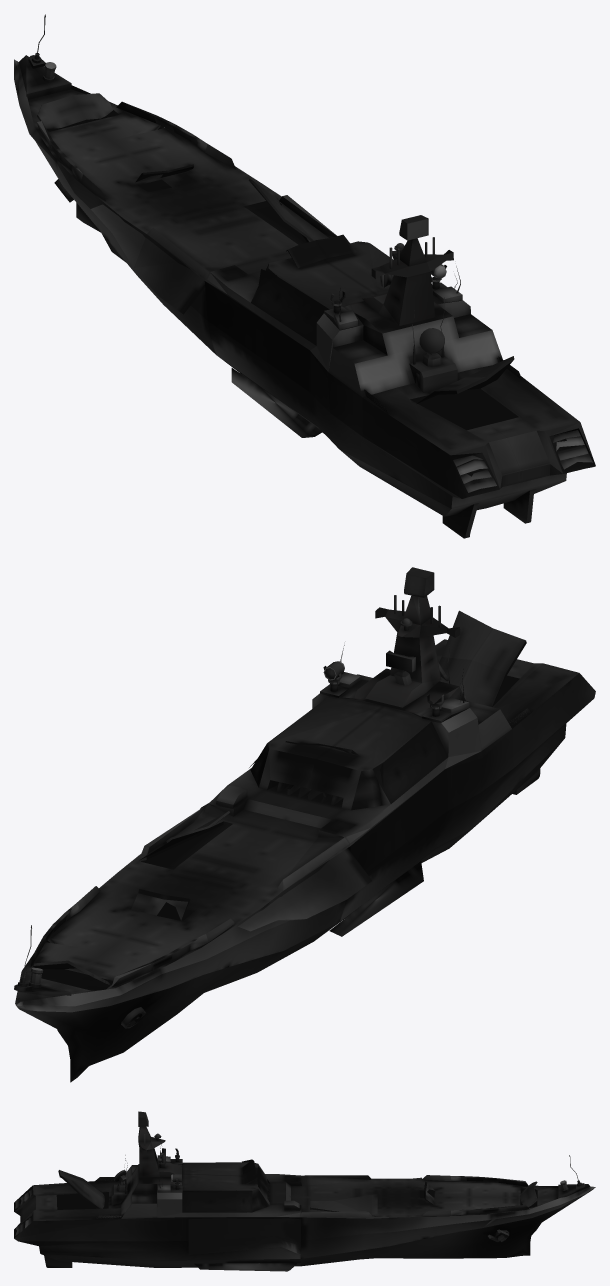
File: large_navy_boat_broken.fbx
3 renders of one model, top to bottom at view 1: azimuth 30°, elevation 25°; view 2: azimuth 150°, elevation 25°; view 3: azimuth 270°, elevation 25°, orthographic. The views are drawn at different scales.
Visible parts, largest first — view 1: large_navy_boat_broken, large_navy_boat_broken_panel_l, large_navy_boat_broken_panel; view 2: large_navy_boat_broken, large_navy_boat_broken_panel_l, large_navy_boat_broken03; view 3: large_navy_boat_broken, large_navy_boat_broken04, large_navy_boat_broken_panel.
Boxes of the visible parts, <box> form: large_navy_boat_broken: <box>14,14,595,538</box>; large_navy_boat_broken_panel_l: <box>91,204,204,314</box>; large_navy_boat_broken_panel: <box>37,93,112,128</box>; large_navy_boat_broken: <box>14,595,595,1082</box>; large_navy_boat_broken_panel_l: <box>238,848,371,931</box>; large_navy_boat_broken03: <box>404,567,434,597</box>; large_navy_boat_broken: <box>14,1127,595,1271</box>; large_navy_boat_broken04: <box>188,1218,301,1255</box>; large_navy_boat_broken_panel: <box>520,1181,537,1207</box>.
Size of the model in its own units: 2586 by 3152 by 11507.
Materials: 1 (1 with a texture image).
